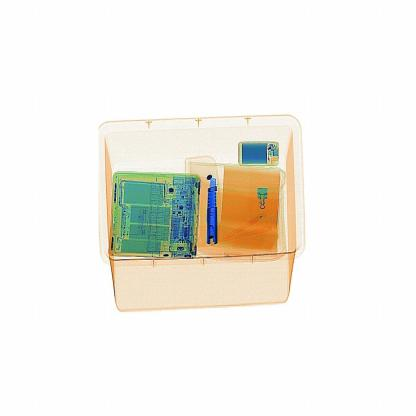pliers: (202, 170, 227, 255)
